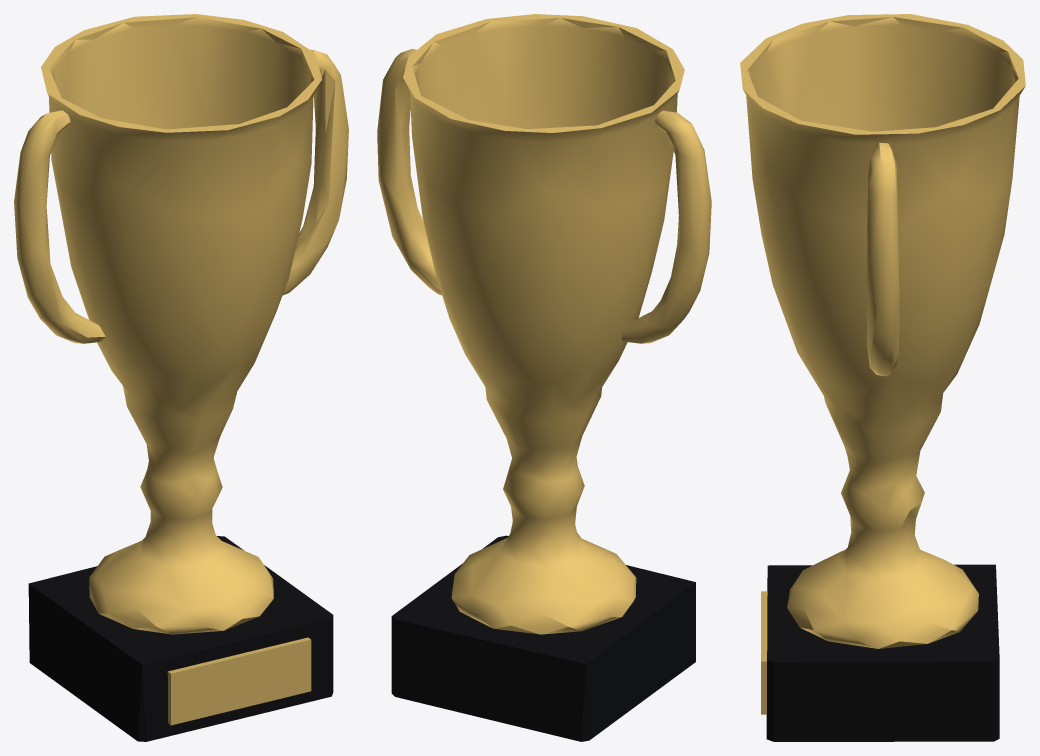
Rendered from trophy.glb.
The picture shows the model from 3 angles, left to right: view 1: azimuth 30°, elevation 25°; view 2: azimuth 150°, elevation 25°; view 3: azimuth 270°, elevation 25°; orthographic projection. The views are drawn at different scales.
Visible parts, largest first — view 1: trophy_cup, marble_plinth, engraving_plate; view 2: trophy_cup, marble_plinth; view 3: trophy_cup, marble_plinth, engraving_plate.
Boxes of the visible parts, x1,y1,x2,y2 form: trophy_cup: (14, 14, 348, 634); marble_plinth: (28, 536, 333, 741); engraving_plate: (167, 637, 311, 725); trophy_cup: (377, 14, 711, 634); marble_plinth: (391, 535, 695, 741); trophy_cup: (740, 14, 1025, 648); marble_plinth: (766, 564, 999, 741); engraving_plate: (761, 591, 767, 714).
Size of the model in its own units: 0.1993 by 0.35 by 0.1466.
